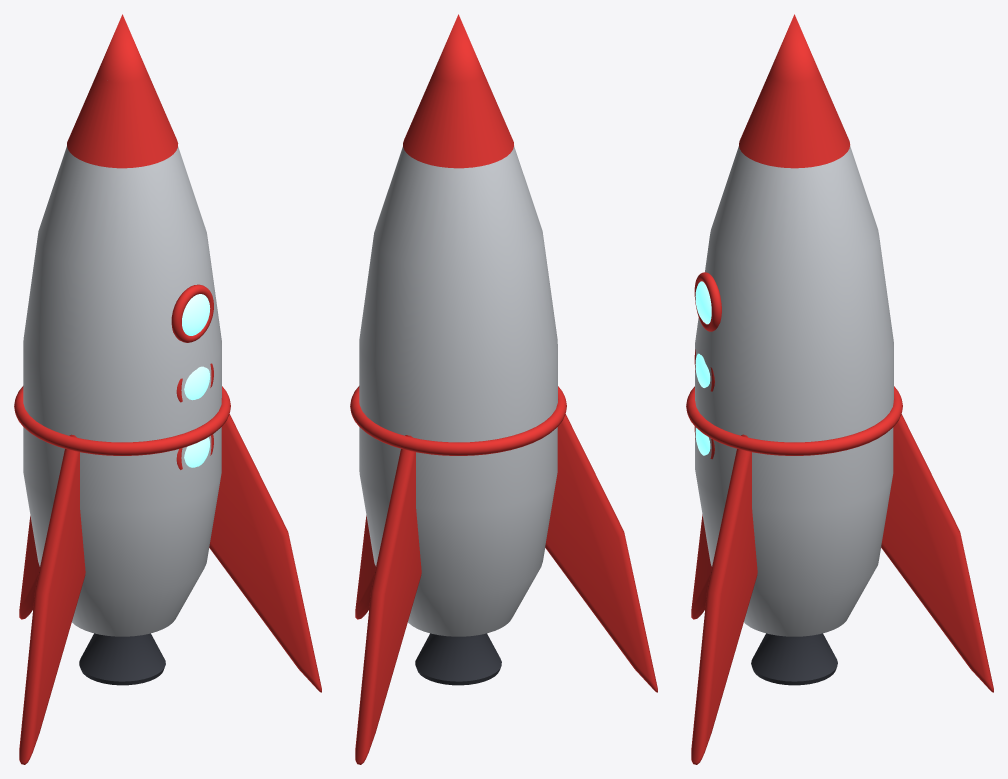
Rendered from Rocket_07_RetroClassic.fbx.
3 renders of one model, left to right at view 1: azimuth 30°, elevation 25°; view 2: azimuth 150°, elevation 25°; view 3: azimuth 270°, elevation 25°, orthographic.
Parts seen in each view (by area): view 1: R07_Body, R07_Fin_3, R07_Fin_2, R07_Nose, R07_Nozzle, R07_Belt, R07_Fin, R07_WindowFrame, R07_Window, R07_Window_2, R07_Window_3; view 2: R07_Body, R07_Fin_2, R07_Fin, R07_Nose, R07_Nozzle, R07_Belt, R07_Fin_3; view 3: R07_Body, R07_Fin, R07_Fin_3, R07_Nose, R07_Nozzle, R07_Belt, R07_Fin_2, R07_WindowFrame, R07_Window.
Part boxes in pixels (x1,y1,x2,y2): R07_Body: (23, 146, 221, 636); R07_Fin_3: (209, 398, 321, 692); R07_Fin_2: (19, 434, 85, 764); R07_Nose: (67, 14, 178, 168); R07_Nozzle: (79, 633, 165, 685); R07_Belt: (14, 386, 230, 455); R07_Fin: (19, 516, 39, 619); R07_WindowFrame: (171, 284, 213, 342); R07_Window: (182, 294, 210, 335); R07_Window_2: (184, 366, 210, 400); R07_Window_3: (184, 437, 209, 467); R07_Body: (359, 146, 557, 636); R07_Fin_2: (545, 399, 657, 692); R07_Fin: (355, 435, 421, 764); R07_Nose: (403, 14, 513, 168); R07_Nozzle: (415, 633, 501, 685); R07_Belt: (350, 386, 566, 455); R07_Fin_3: (355, 515, 375, 619); R07_Body: (695, 146, 893, 636); R07_Fin: (881, 399, 993, 692); R07_Fin_3: (691, 434, 757, 764); R07_Nose: (739, 14, 850, 168); R07_Nozzle: (751, 633, 837, 685); R07_Belt: (686, 386, 902, 455); R07_Fin_2: (691, 514, 711, 619); R07_WindowFrame: (694, 272, 721, 331); R07_Window: (695, 281, 711, 324).
Size of the model in its own units: 3.49 by 7.52 by 3.09.
